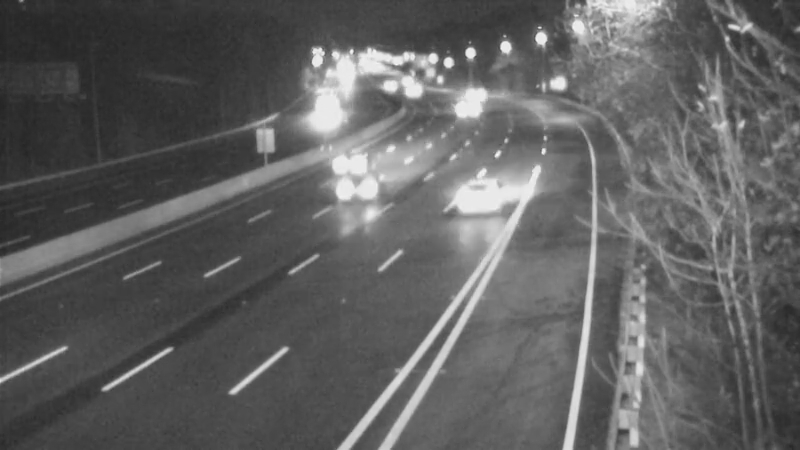vehicle: (316, 116, 396, 196), (323, 145, 403, 225), (437, 152, 517, 232), (442, 65, 492, 115), (434, 83, 484, 133), (297, 85, 347, 135)
